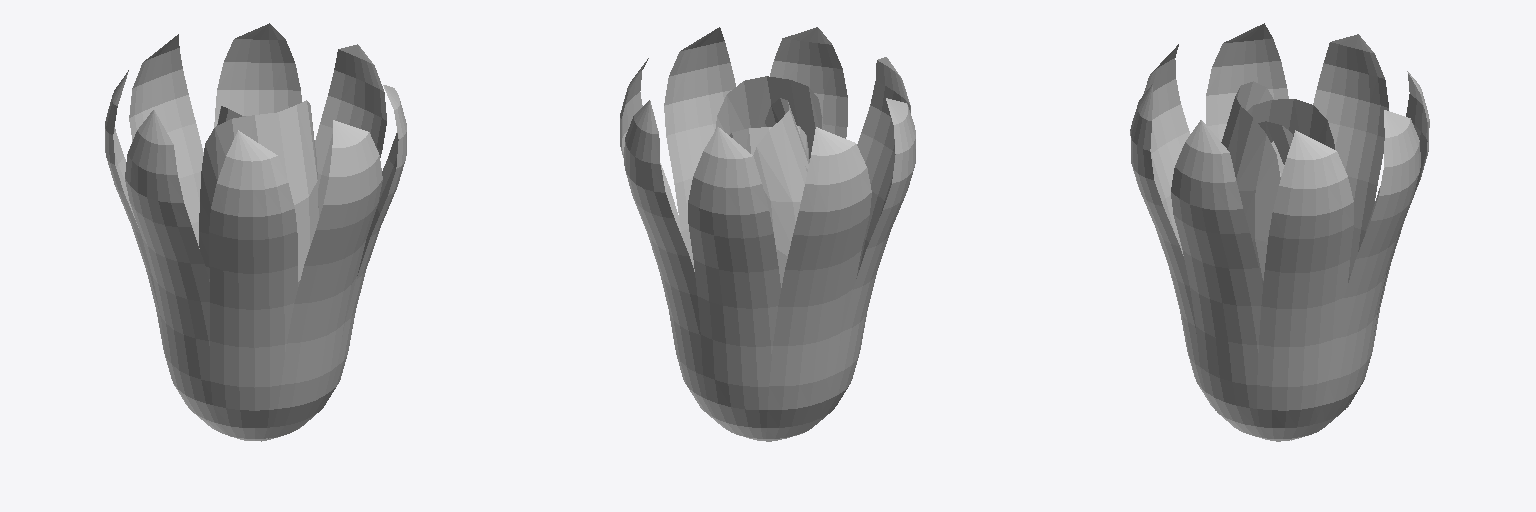
File: FlowerTopModel_03_seq_0018.obj
3 renders of one model, left to right at view 1: azimuth 30°, elevation 25°; view 2: azimuth 150°, elevation 25°; view 3: azimuth 270°, elevation 25°, orthographic.
Parts seen in each view (by area): view 1: FlowerTopModel_03; view 2: FlowerTopModel_03; view 3: FlowerTopModel_03.
Part boxes in pixels (bbox=[...]): FlowerTopModel_03: bbox=[105, 23, 406, 441]; FlowerTopModel_03: bbox=[620, 27, 915, 441]; FlowerTopModel_03: bbox=[1130, 23, 1429, 441].
Bounding box in the file's own units: 276 × 365 × 276.